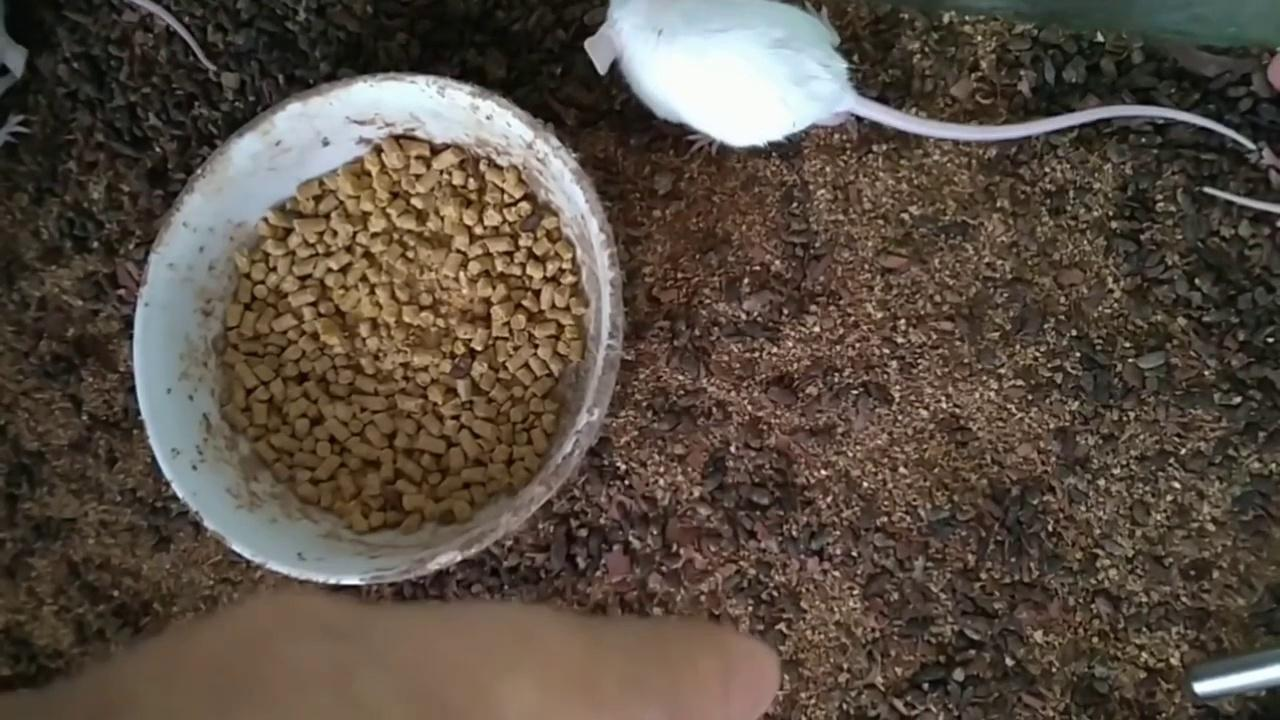rat: (583, 0, 1249, 149)
